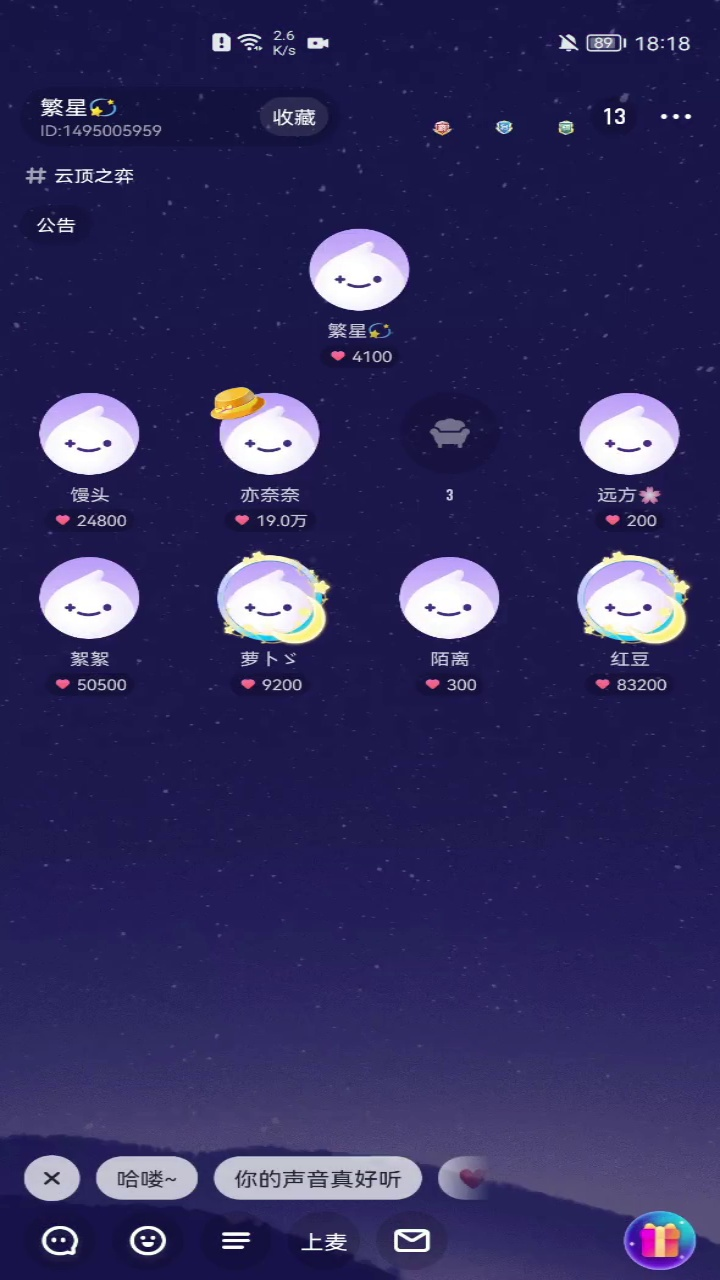avatar: (204, 380, 331, 482), (571, 549, 695, 650), (209, 549, 332, 650), (29, 385, 148, 480), (35, 550, 144, 644), (304, 224, 416, 314), (577, 386, 684, 477), (397, 553, 504, 644)
